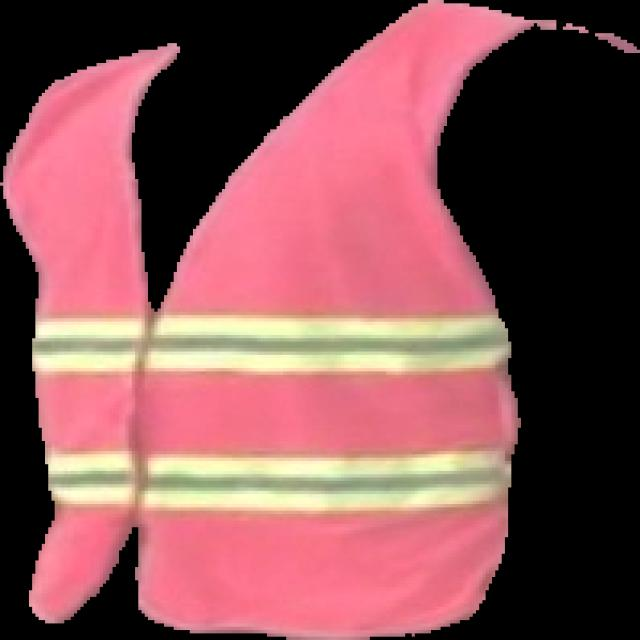Colete: (0, 0, 556, 639)
